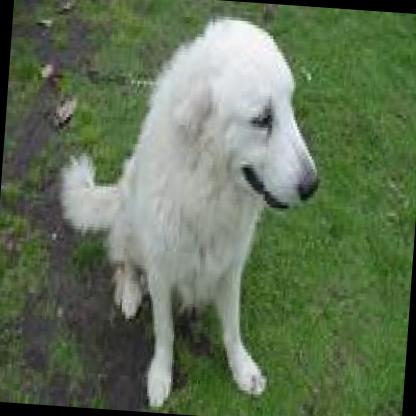kuvasz: (42, 0, 333, 410)
